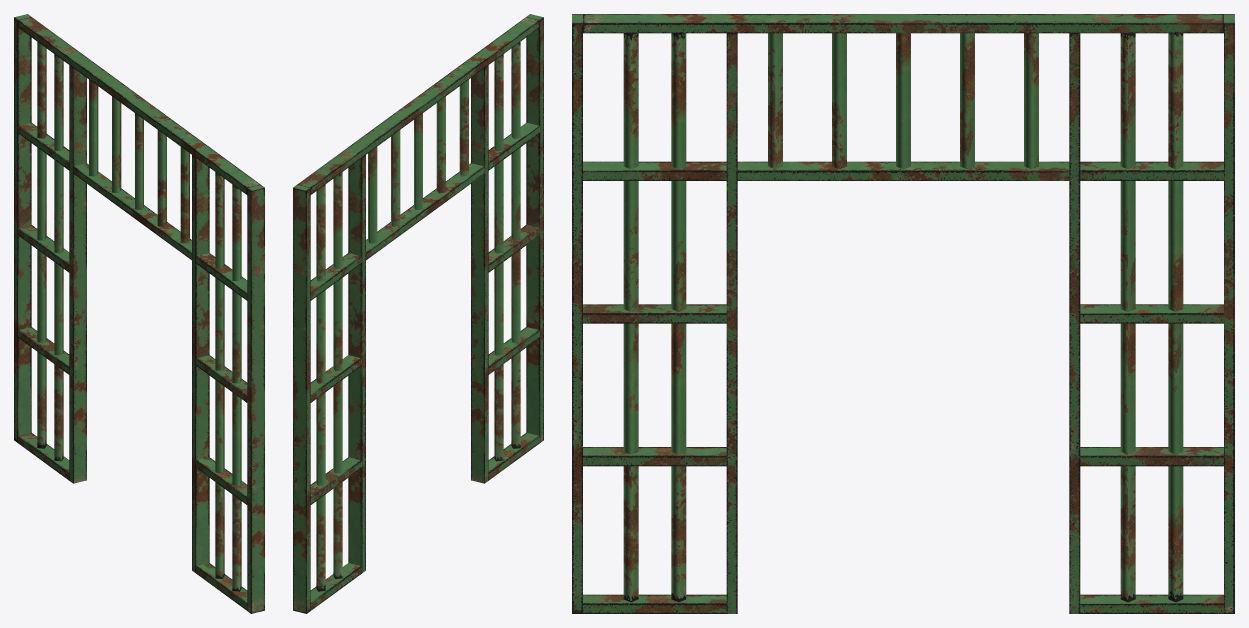
The model's file is metalBars01_3m_B.FBX.
3 renders of one model, left to right at view 1: azimuth 30°, elevation 25°; view 2: azimuth 150°, elevation 25°; view 3: azimuth 270°, elevation 25°, orthographic. The views are drawn at different scales.
Visible parts, largest first — view 1: metalBars01_3m_B; view 2: metalBars01_3m_B; view 3: metalBars01_3m_B.
Boxes of the visible parts, x1,y1,x2,y2 form: metalBars01_3m_B: (14,14,264,613); metalBars01_3m_B: (293,14,543,613); metalBars01_3m_B: (572,14,1234,613).
Size of the model in its own units: 10 by 295 by 300.
